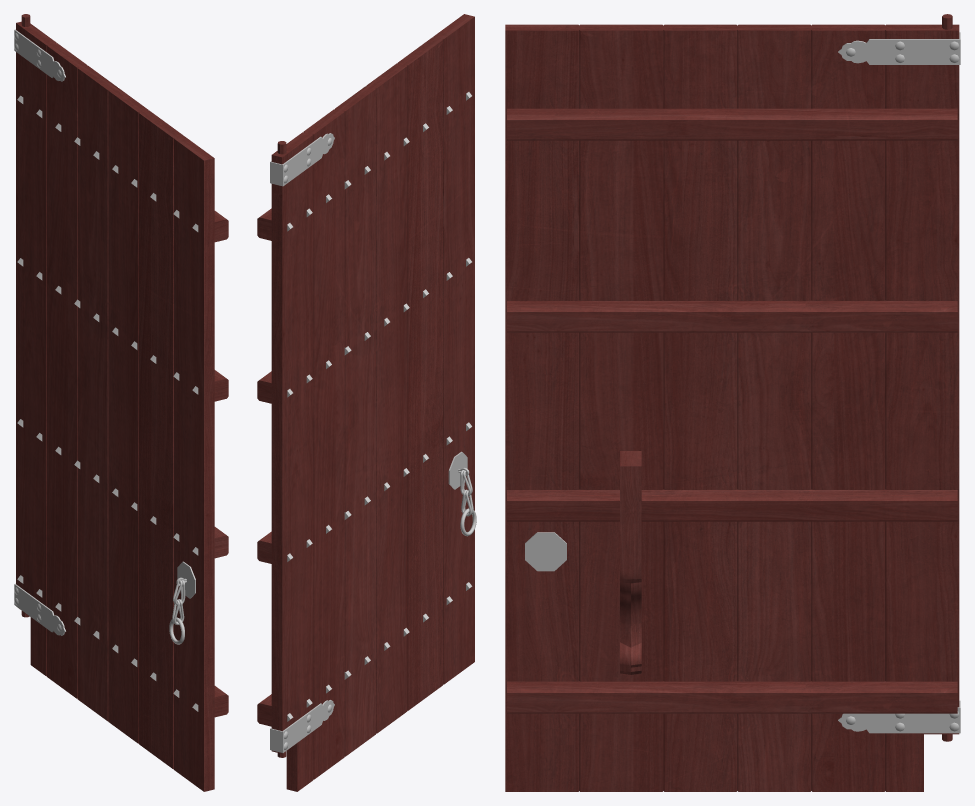
Rendered from SM_GateDoor01B.fbx.
3 renders of one model, left to right at view 1: azimuth 30°, elevation 25°; view 2: azimuth 150°, elevation 25°; view 3: azimuth 270°, elevation 25°, orthographic. The views are drawn at different scales.
Visible parts, largest first — view 1: SM_GateDoor01B; view 2: SM_GateDoor01B; view 3: SM_GateDoor01B.
Part boxes in pixels (left/top/right/bottom): SM_GateDoor01B: left=14, top=14, right=228, bottom=791; SM_GateDoor01B: left=257, top=14, right=476, bottom=791; SM_GateDoor01B: left=505, top=14, right=960, bottom=791.
Size of the model in its own units: 21.05 by 134 by 251.
